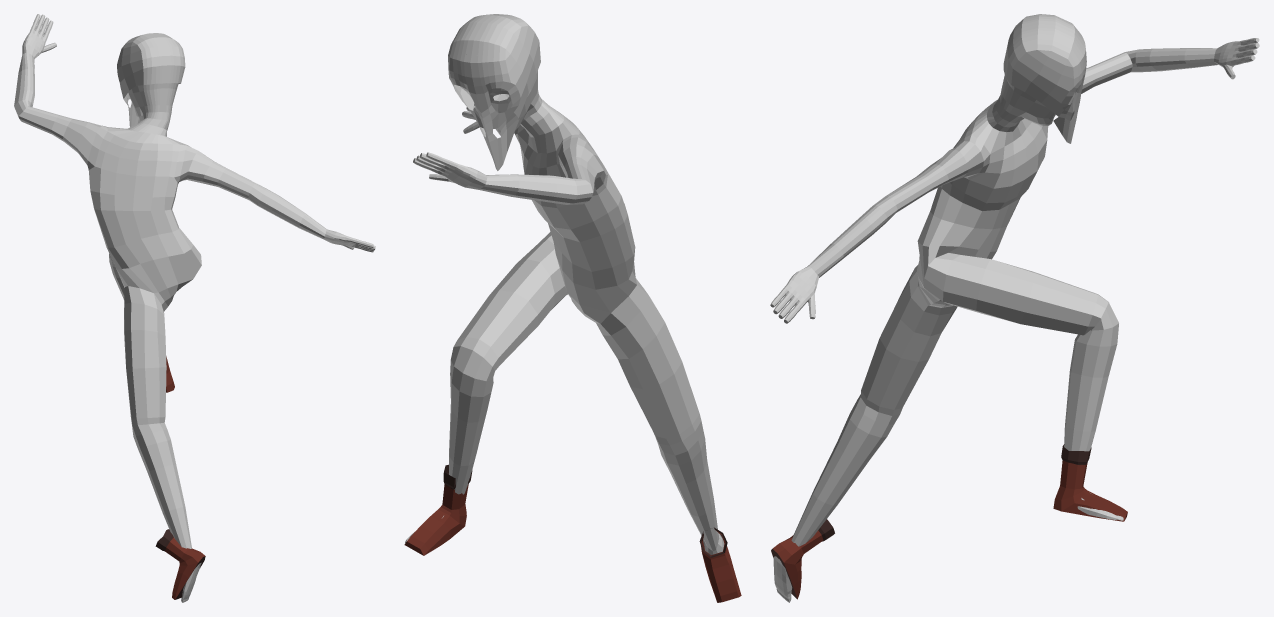
The model's file is saltoadelante_000109.obj.
3 renders of one model, left to right at view 1: azimuth 30°, elevation 25°; view 2: azimuth 150°, elevation 25°; view 3: azimuth 270°, elevation 25°, orthographic. The views are drawn at different scales.
Visible parts, largest first — view 1: Plane.002_Plane.001, Plane.004; view 2: Plane.002_Plane.001, Plane.003, Plane.004; view 3: Plane.002_Plane.001, Plane.003, Plane.004.
Part boxes in pixels (x1=…): Plane.002_Plane.001: x1=14, y1=14, x2=375, y2=602; Plane.004: x1=155, y1=529, x2=205, y2=599; Plane.002_Plane.001: x1=405, y1=14, x2=724, y2=554; Plane.003: x1=404, y1=464, x2=472, y2=555; Plane.004: x1=699, y1=527, x2=741, y2=602; Plane.002_Plane.001: x1=770, y1=14, x2=1259, y2=602; Plane.003: x1=1053, y1=444, x2=1127, y2=521; Plane.004: x1=771, y1=519, x2=834, y2=599.
Size of the model in its own units: 3.44 by 6.97 by 4.96.
